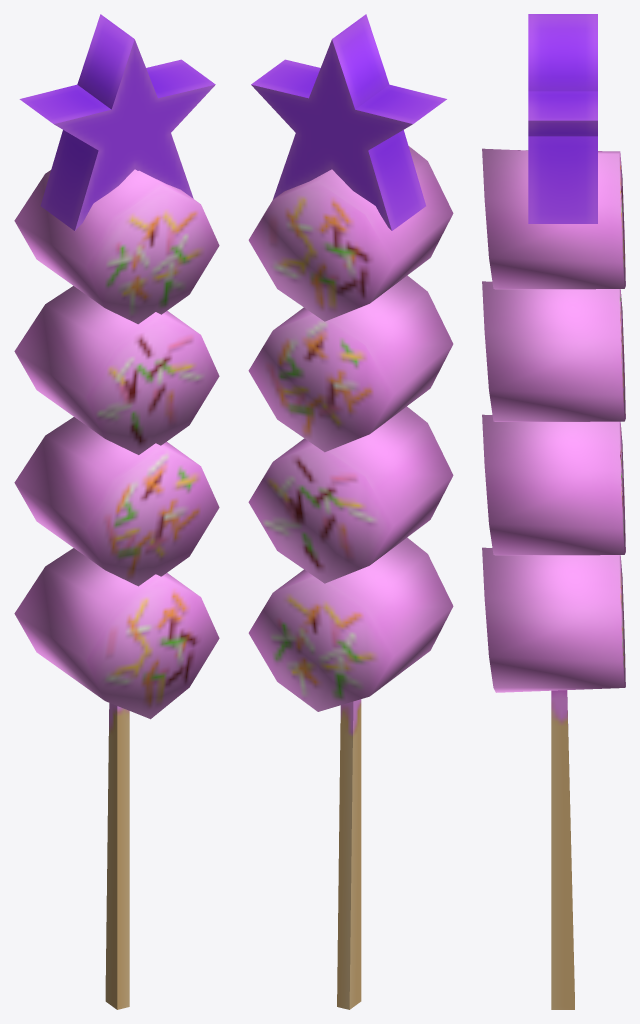
File: jsf_ChocolateBanana_b04_c02.fbx
3 views of the same model, side by side, from view 1: azimuth 30°, elevation 25°; view 2: azimuth 150°, elevation 25°; view 3: azimuth 270°, elevation 25° (orthographic).
Visible parts, largest first — view 1: jsf_ChocolateBanana_b04_c02; view 2: jsf_ChocolateBanana_b04_c02; view 3: jsf_ChocolateBanana_b04_c02.
Boxes of the visible parts, left/top/right/bottom form: jsf_ChocolateBanana_b04_c02: left=14, top=14, right=219, bottom=1009; jsf_ChocolateBanana_b04_c02: left=248, top=14, right=453, bottom=1009; jsf_ChocolateBanana_b04_c02: left=482, top=14, right=625, bottom=1009.
Size of the model in its own units: 4.51 by 25.95 by 3.41.
